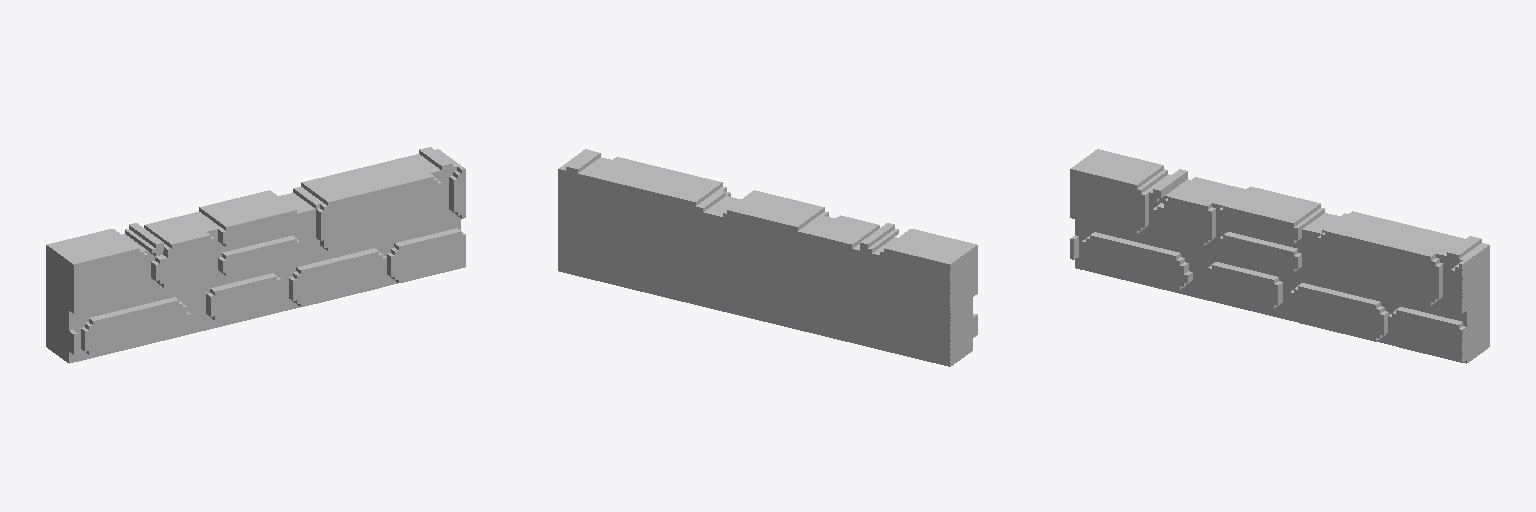
Rendered from GGJ low walls.obj.
3 views of the same model, side by side, from view 1: azimuth 30°, elevation 25°; view 2: azimuth 150°, elevation 25°; view 3: azimuth 330°, elevation 25° (orthographic).
Visible parts, largest first — view 1: object 1; view 2: object 1; view 3: object 1.
Boxes of the visible parts, x1=… form: object 1: x1=46, y1=147, x2=465, y2=363; object 1: x1=558, y1=149, x2=977, y2=366; object 1: x1=1070, y1=149, x2=1489, y2=363.
Size of the model in its own units: 10 by 2.6 by 1.2.